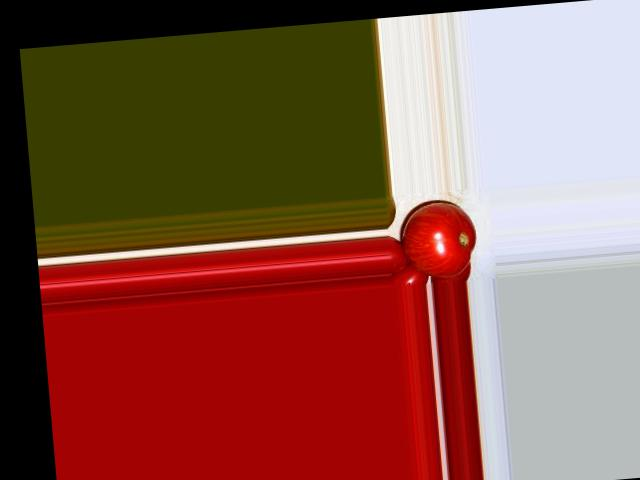tomato: (398, 199, 479, 281)
